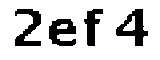2: (12, 6, 45, 51)
4: (113, 3, 153, 54)
e: (47, 17, 80, 49)
f: (80, 1, 105, 49)
